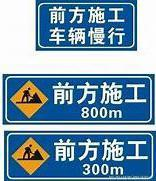sign: (4, 76, 154, 123), (5, 133, 153, 179), (38, 2, 136, 49)
